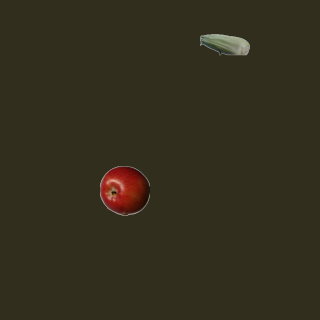Apple Braeburn: (99, 165, 149, 215)
Corn Husk: (199, 19, 249, 69)
